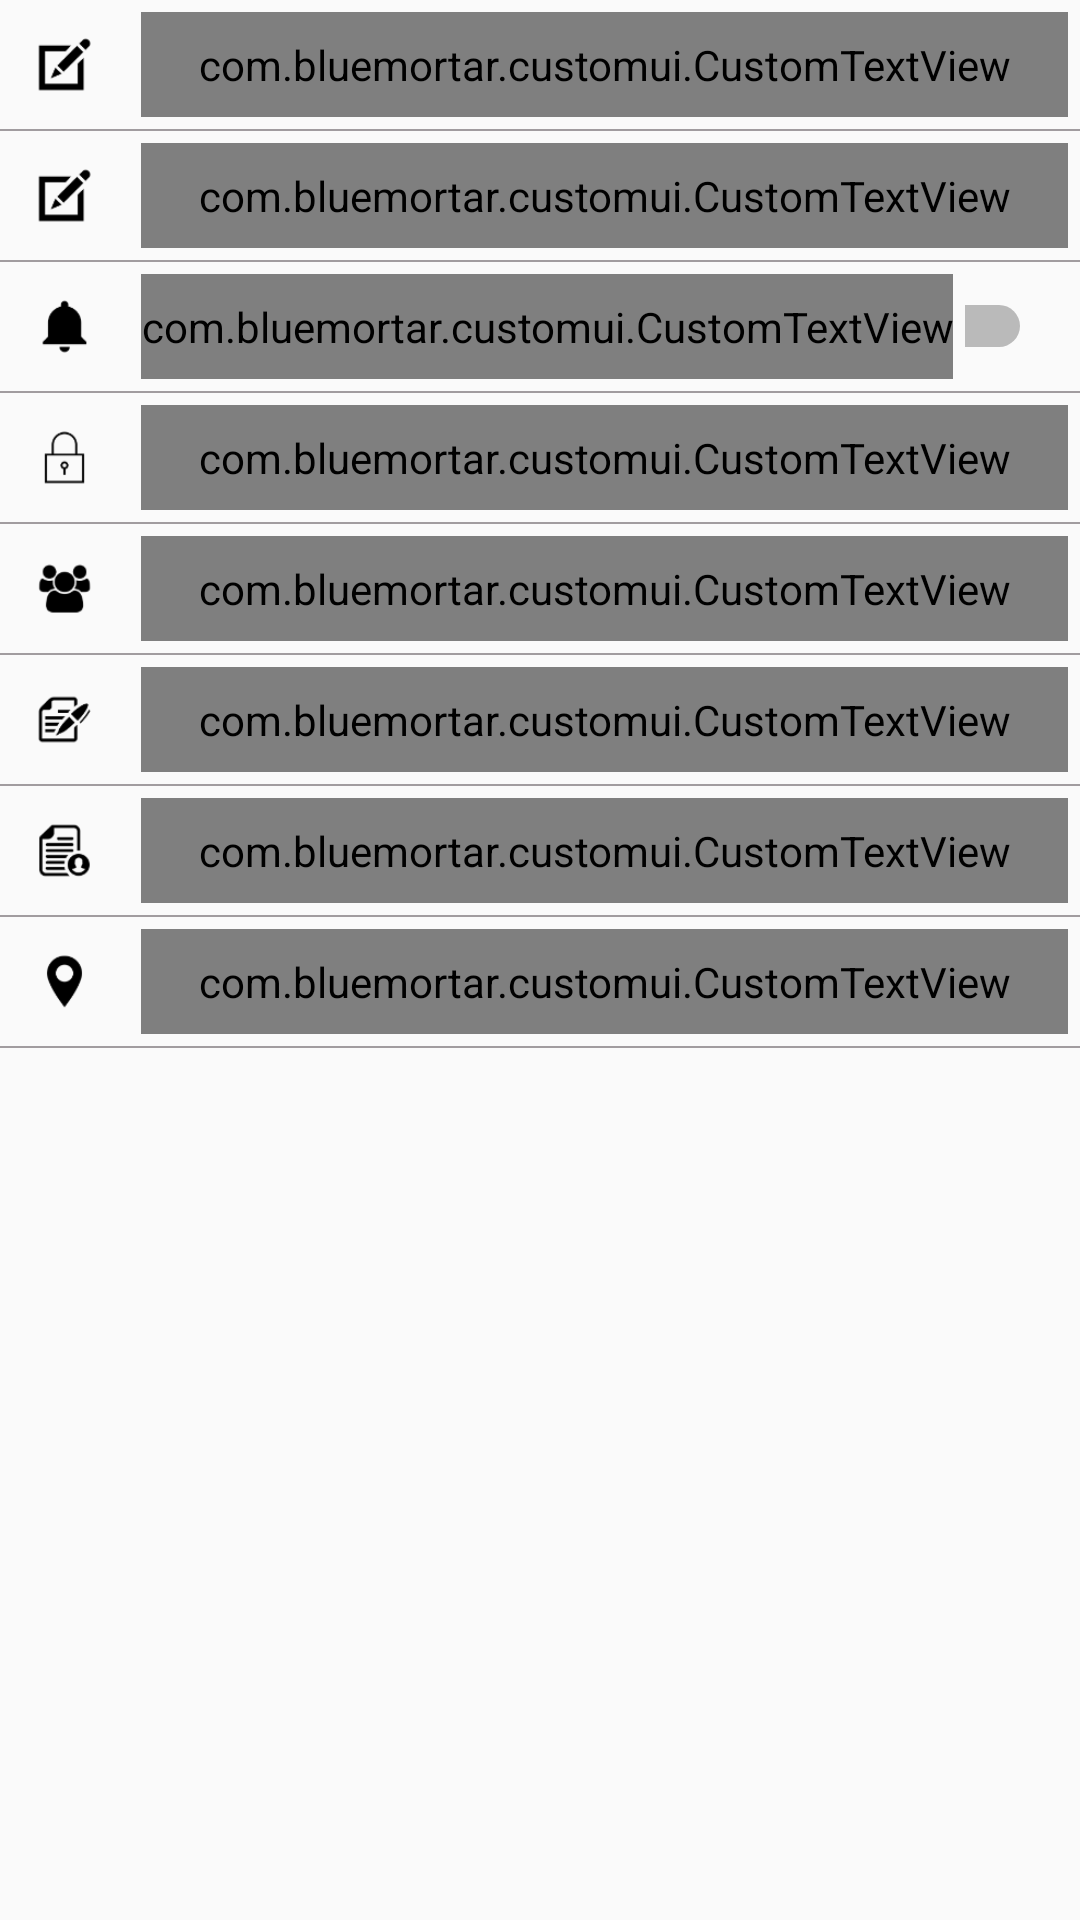

Where icons sit on this 1080w x 1920h app screen, as {"x1": x1, "y1": y1, "x2": x2, "y2": y2}:
aboutus: {"x1": 39, "y1": 564, "x2": 91, "y2": 613}
changepwd: {"x1": 44, "y1": 431, "x2": 85, "y2": 484}
contactus: {"x1": 47, "y1": 955, "x2": 82, "y2": 1007}
editprofile: {"x1": 38, "y1": 38, "x2": 91, "y2": 91}, {"x1": 38, "y1": 169, "x2": 91, "y2": 222}
notifications: {"x1": 42, "y1": 300, "x2": 87, "y2": 353}
privacypolicy: {"x1": 39, "y1": 824, "x2": 90, "y2": 877}
termsconditions: {"x1": 38, "y1": 696, "x2": 91, "y2": 743}
